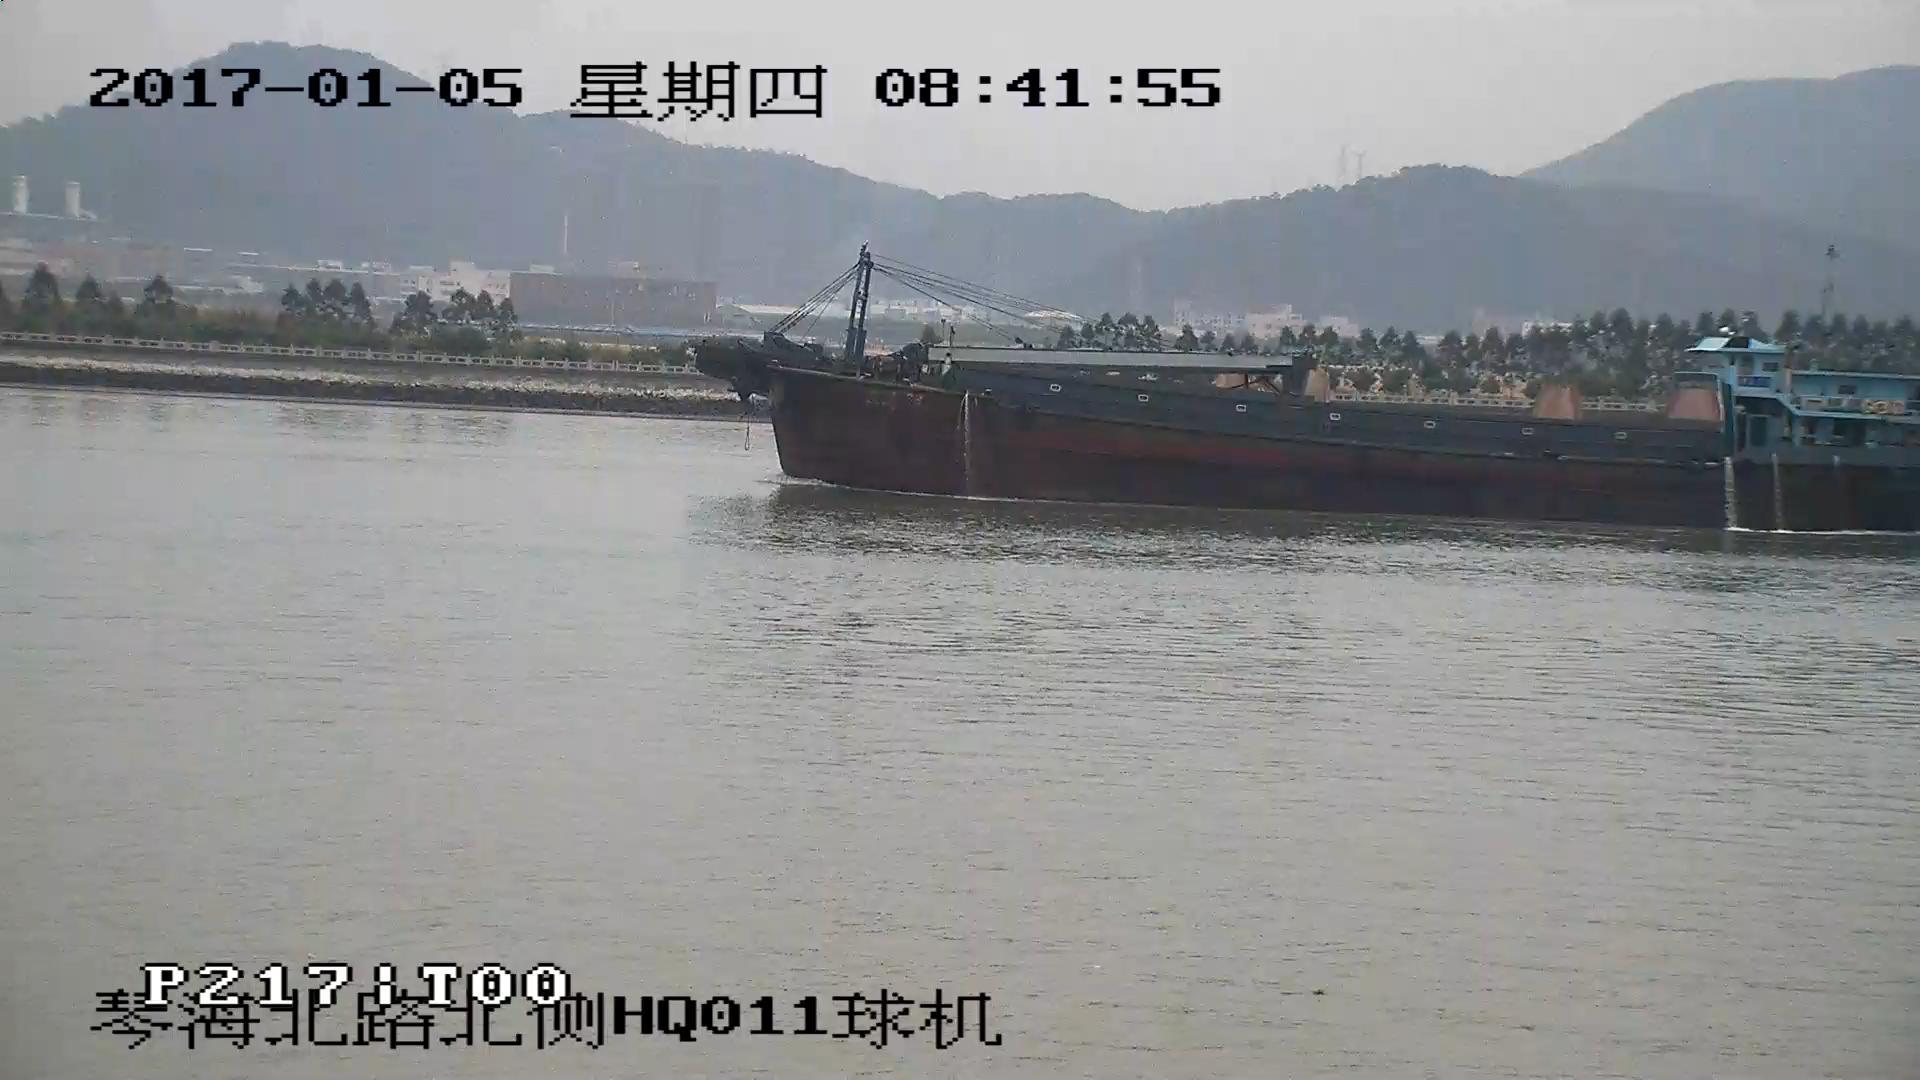Ship: (692, 251, 1920, 533)
